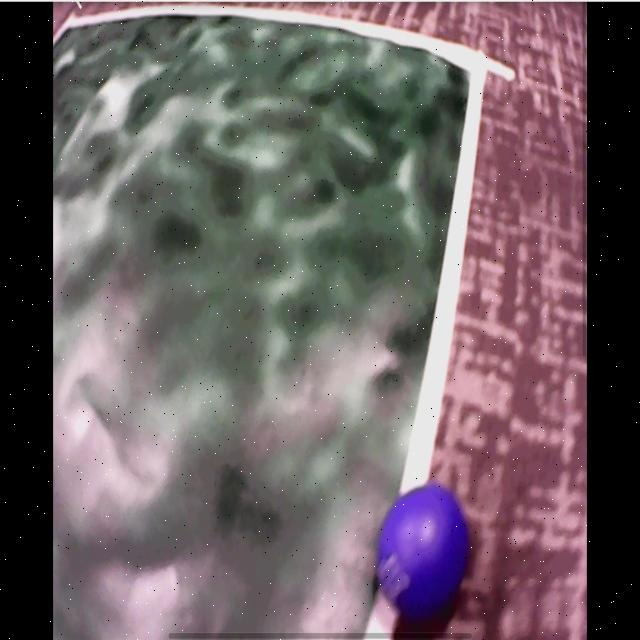ball: (378, 485, 469, 618)
